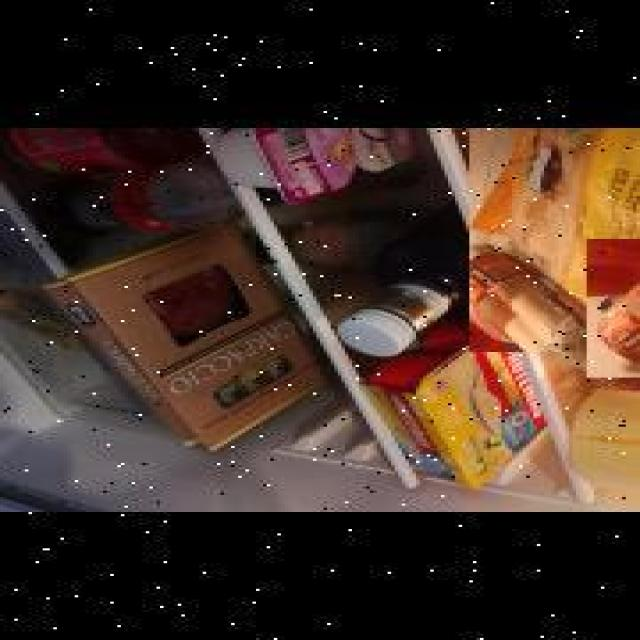sausage: (583, 239, 640, 378)
tortillas: (462, 128, 640, 352)
